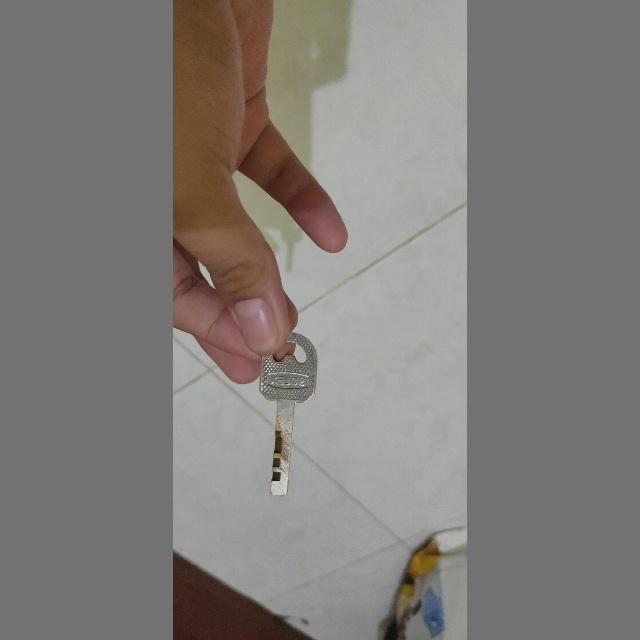Keys: (253, 324, 320, 512)
